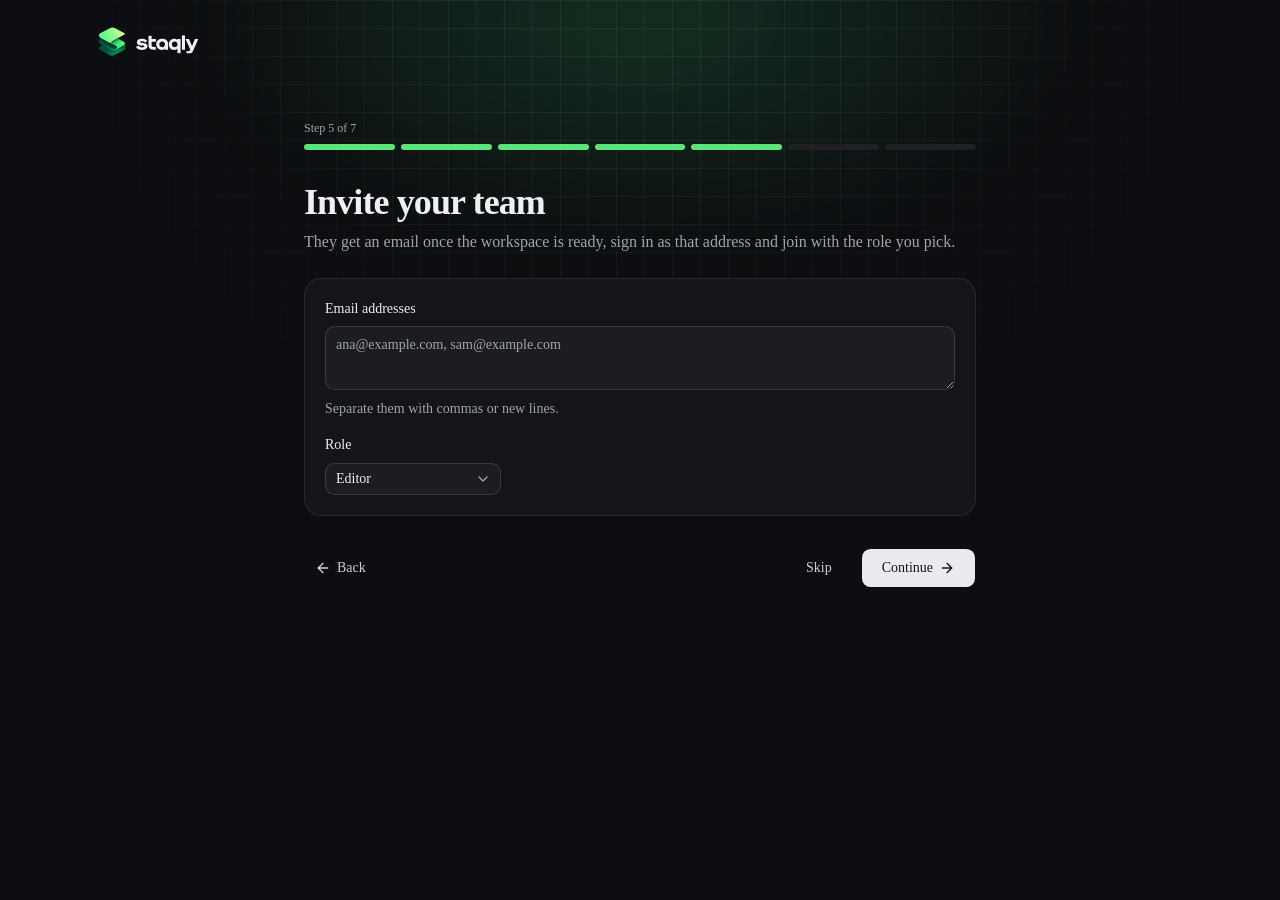
welcome wizard › without a plan: the plan is the last step, with no way around it
Expected: the heading "Invite your team" is shown, 304,182 -> 545,222
Step 1. Click the button "Skip" → (819, 568), box 785,548 -> 853,588
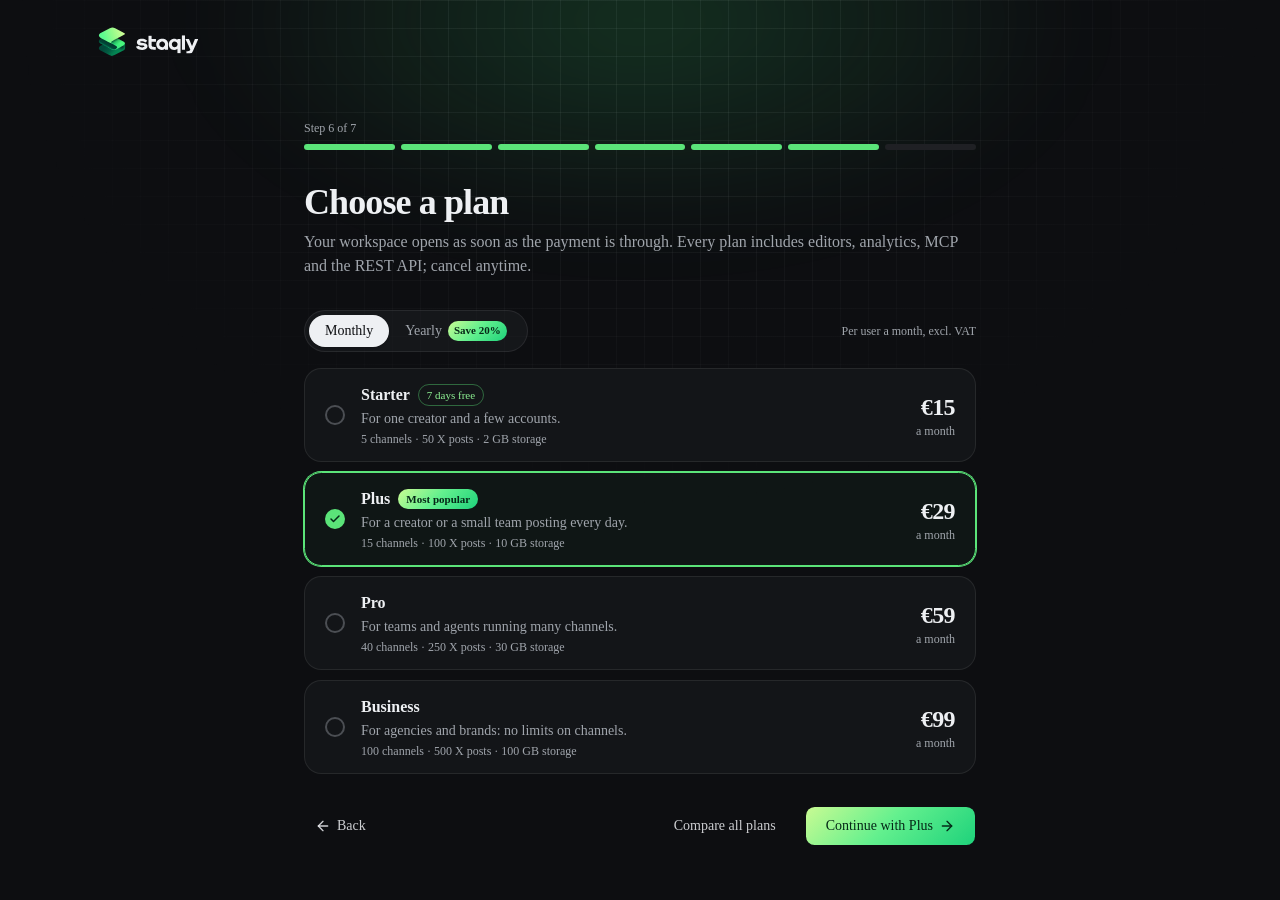
Expected: the heading "Choose a plan" is shown, 304,182 -> 508,222
Step 2. Click the radio button with test id "welcome-plan-starter" → (385, 394), box 304,368 -> 976,462
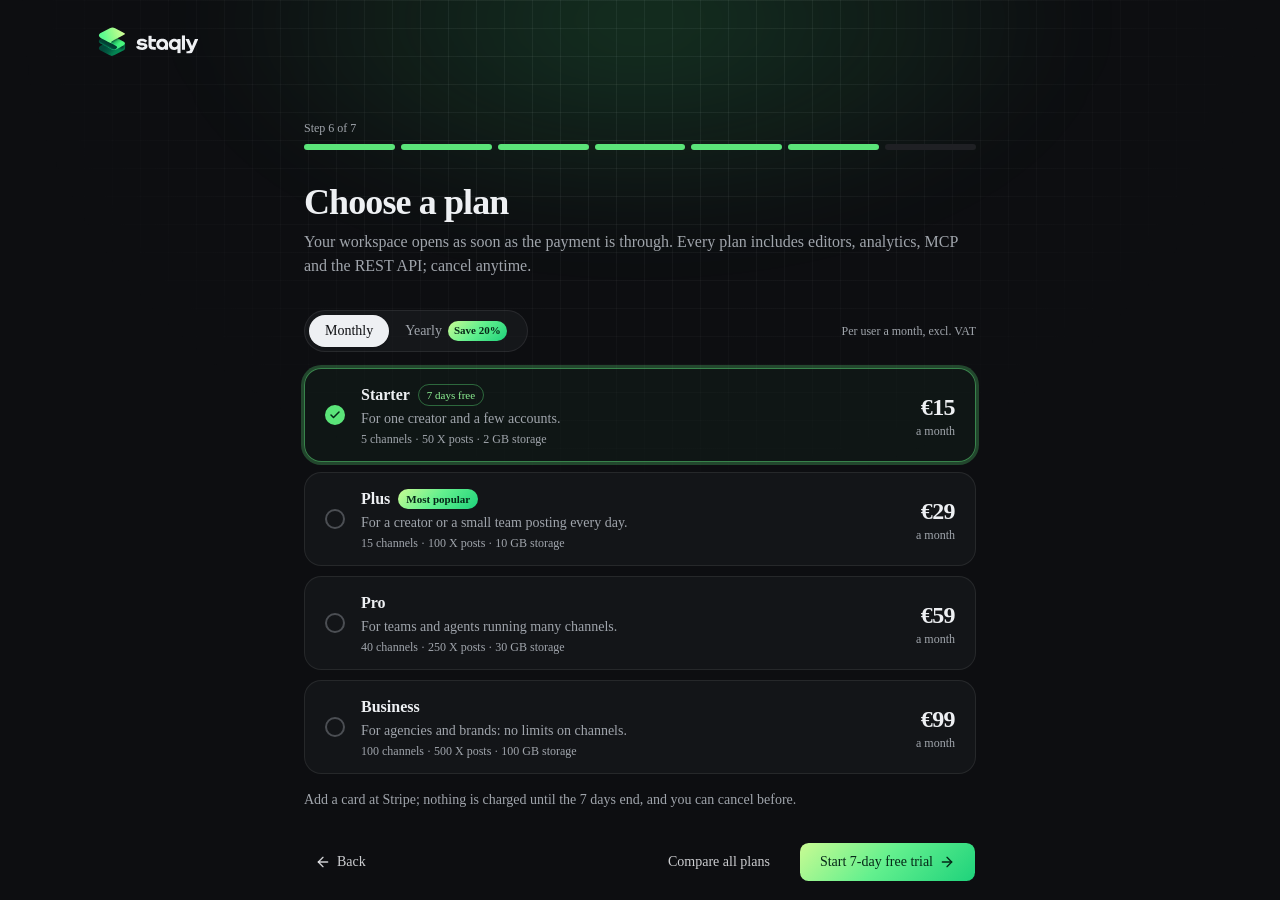
Step 3. Click the button with test id "start-trial" → (887, 862), box 799,842 -> 976,882
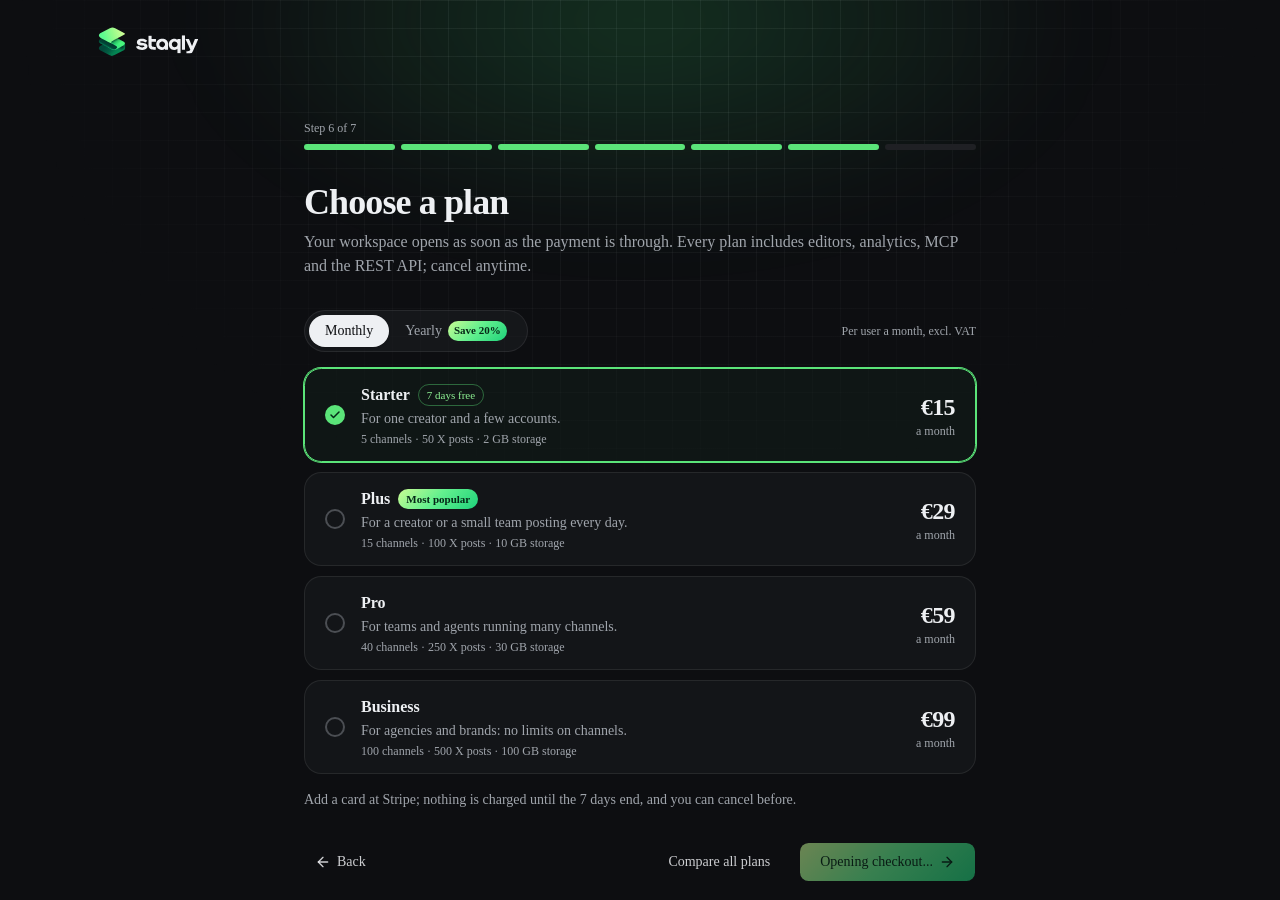
Expected: the button with test id "start-trial" is disabled, 799,842 -> 976,882
